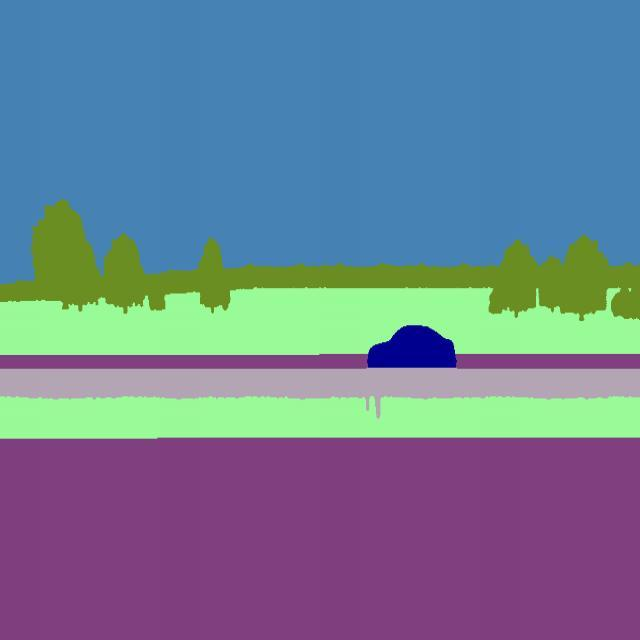safe: (364, 318, 462, 376)
